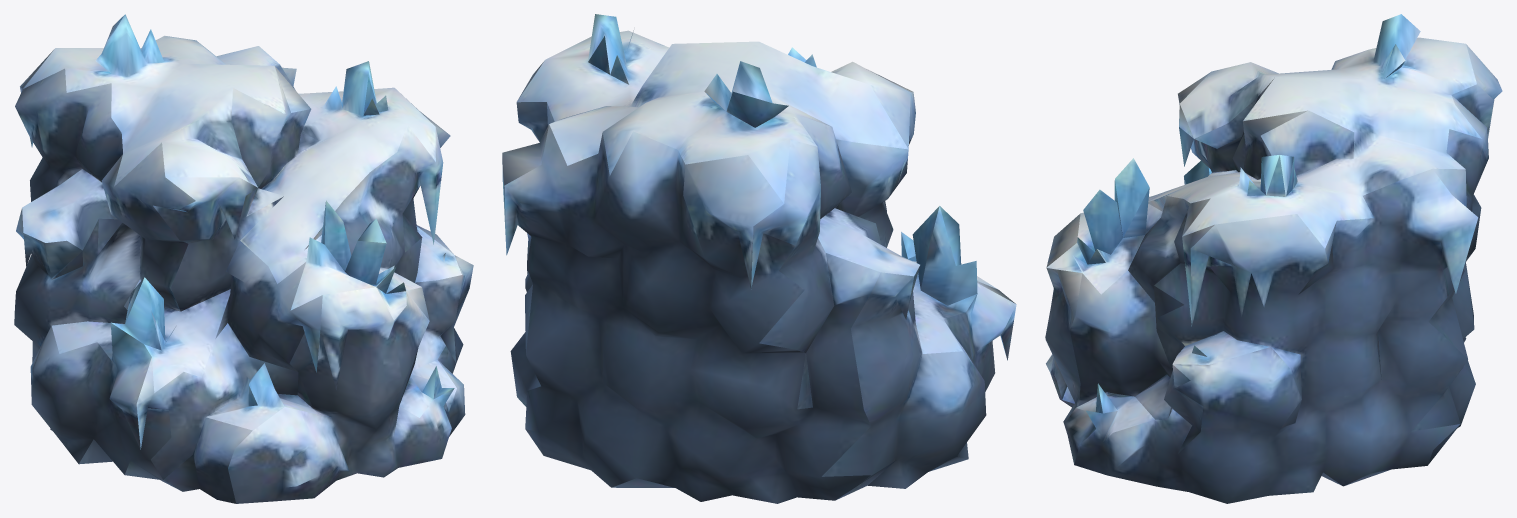
The model's file is d_givre_massif.glb.
3 renders of one model, left to right at view 1: azimuth 30°, elevation 25°; view 2: azimuth 150°, elevation 25°; view 3: azimuth 270°, elevation 25°, orthographic. The views are drawn at different scales.
Visible parts, largest first — view 1: geometry_0; view 2: geometry_0; view 3: geometry_0.
Part boxes in pixels (left/top/right/bottom): geometry_0: left=14, top=14, right=473, bottom=503; geometry_0: left=502, top=14, right=1016, bottom=503; geometry_0: left=1045, top=14, right=1502, bottom=503.
Size of the model in its own units: 1 by 0.8906 by 0.9851.
1 material, 1 textured.
